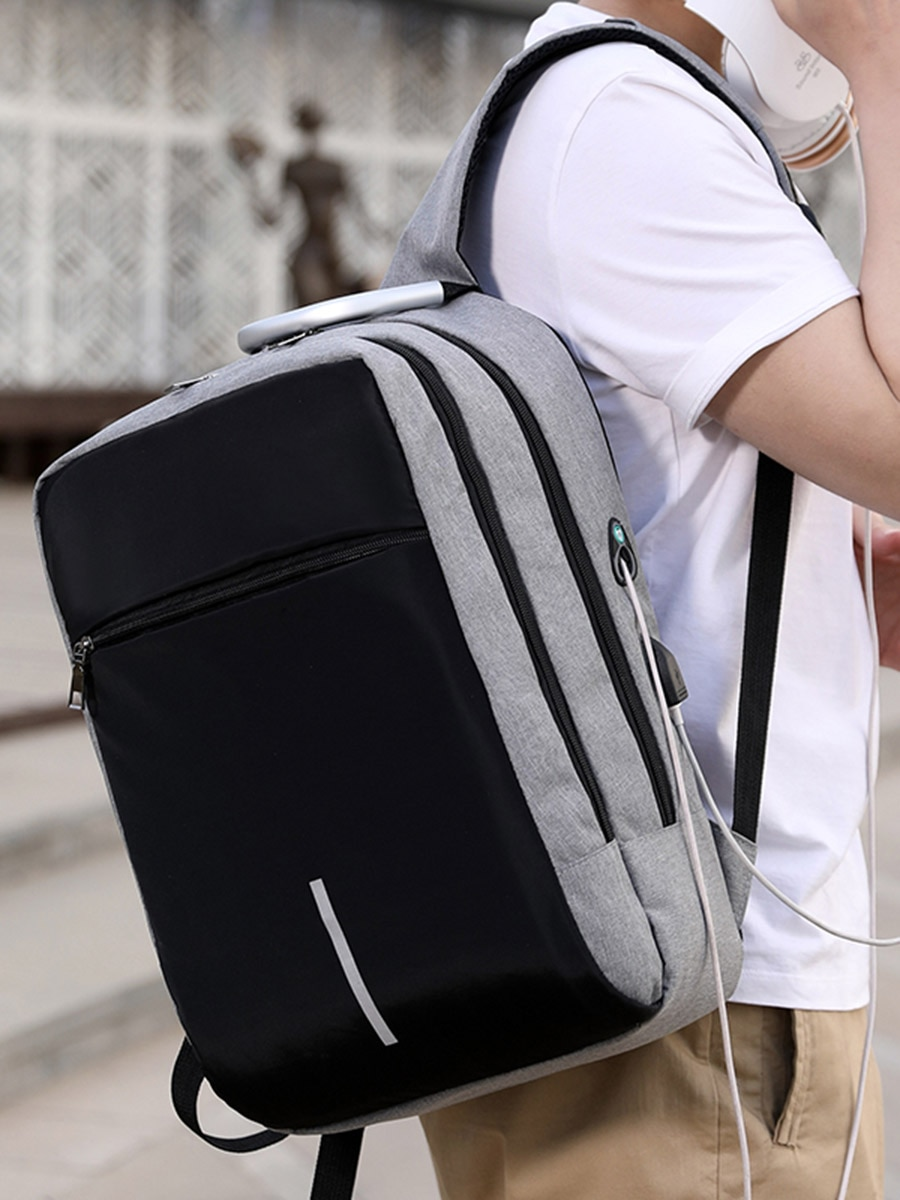Men's Backpacks: (28, 270, 745, 1157)
Tops|T-shirts & Tanks: (508, 19, 892, 1007)
